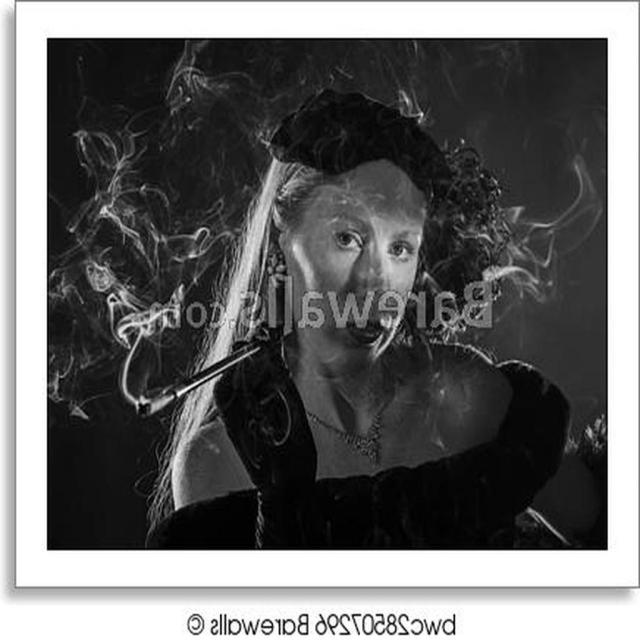smoking: (93, 82, 499, 482)
